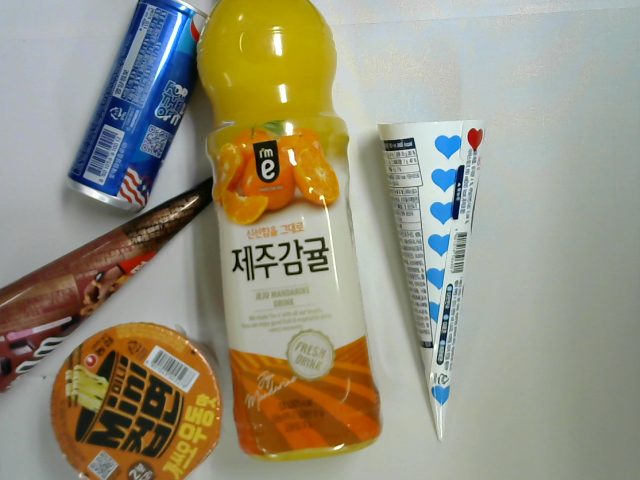Bravo_Cone_(Banila)_CVS: (377, 114, 489, 443)
Jeju_Tangerine_1.5L: (193, 1, 386, 462)
Pepsi_Cola_Can_250ml: (66, 1, 210, 215)
Udongmini: (48, 321, 226, 480)
World_Cone_Choco: (1, 170, 218, 399)
